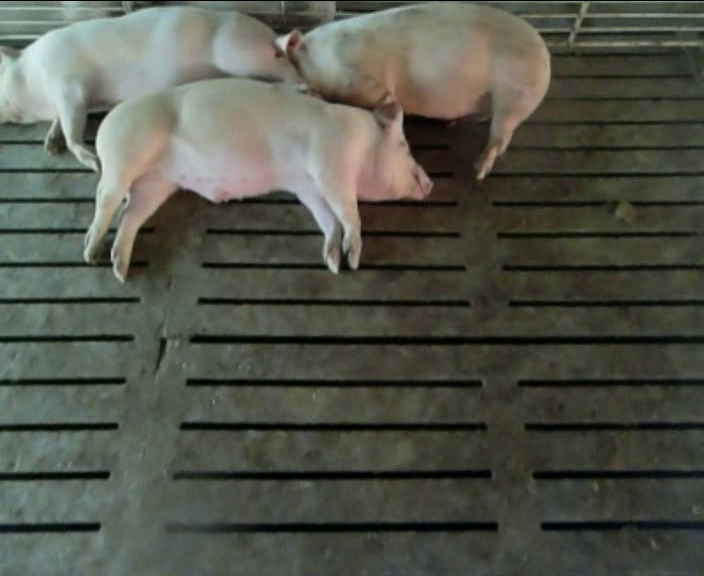pig: (84, 81, 431, 281), (274, 5, 549, 178)
